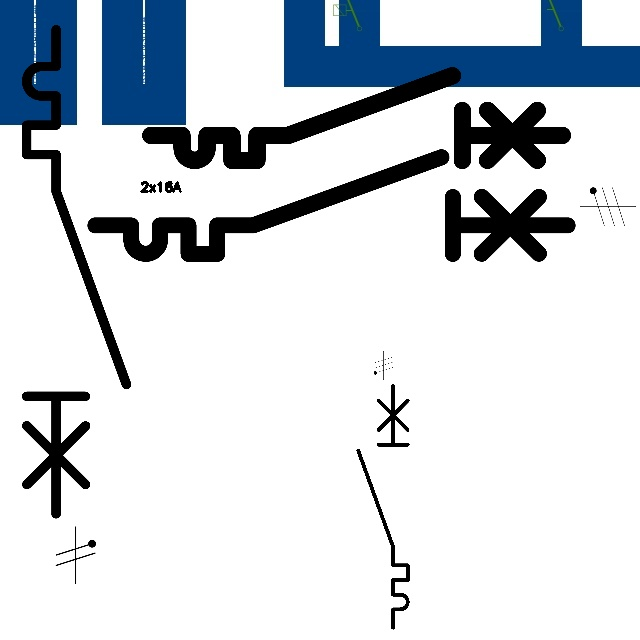interruptor_termomagnetico: (14, 17, 138, 526), (83, 145, 580, 266), (140, 65, 573, 171), (352, 379, 414, 633)
